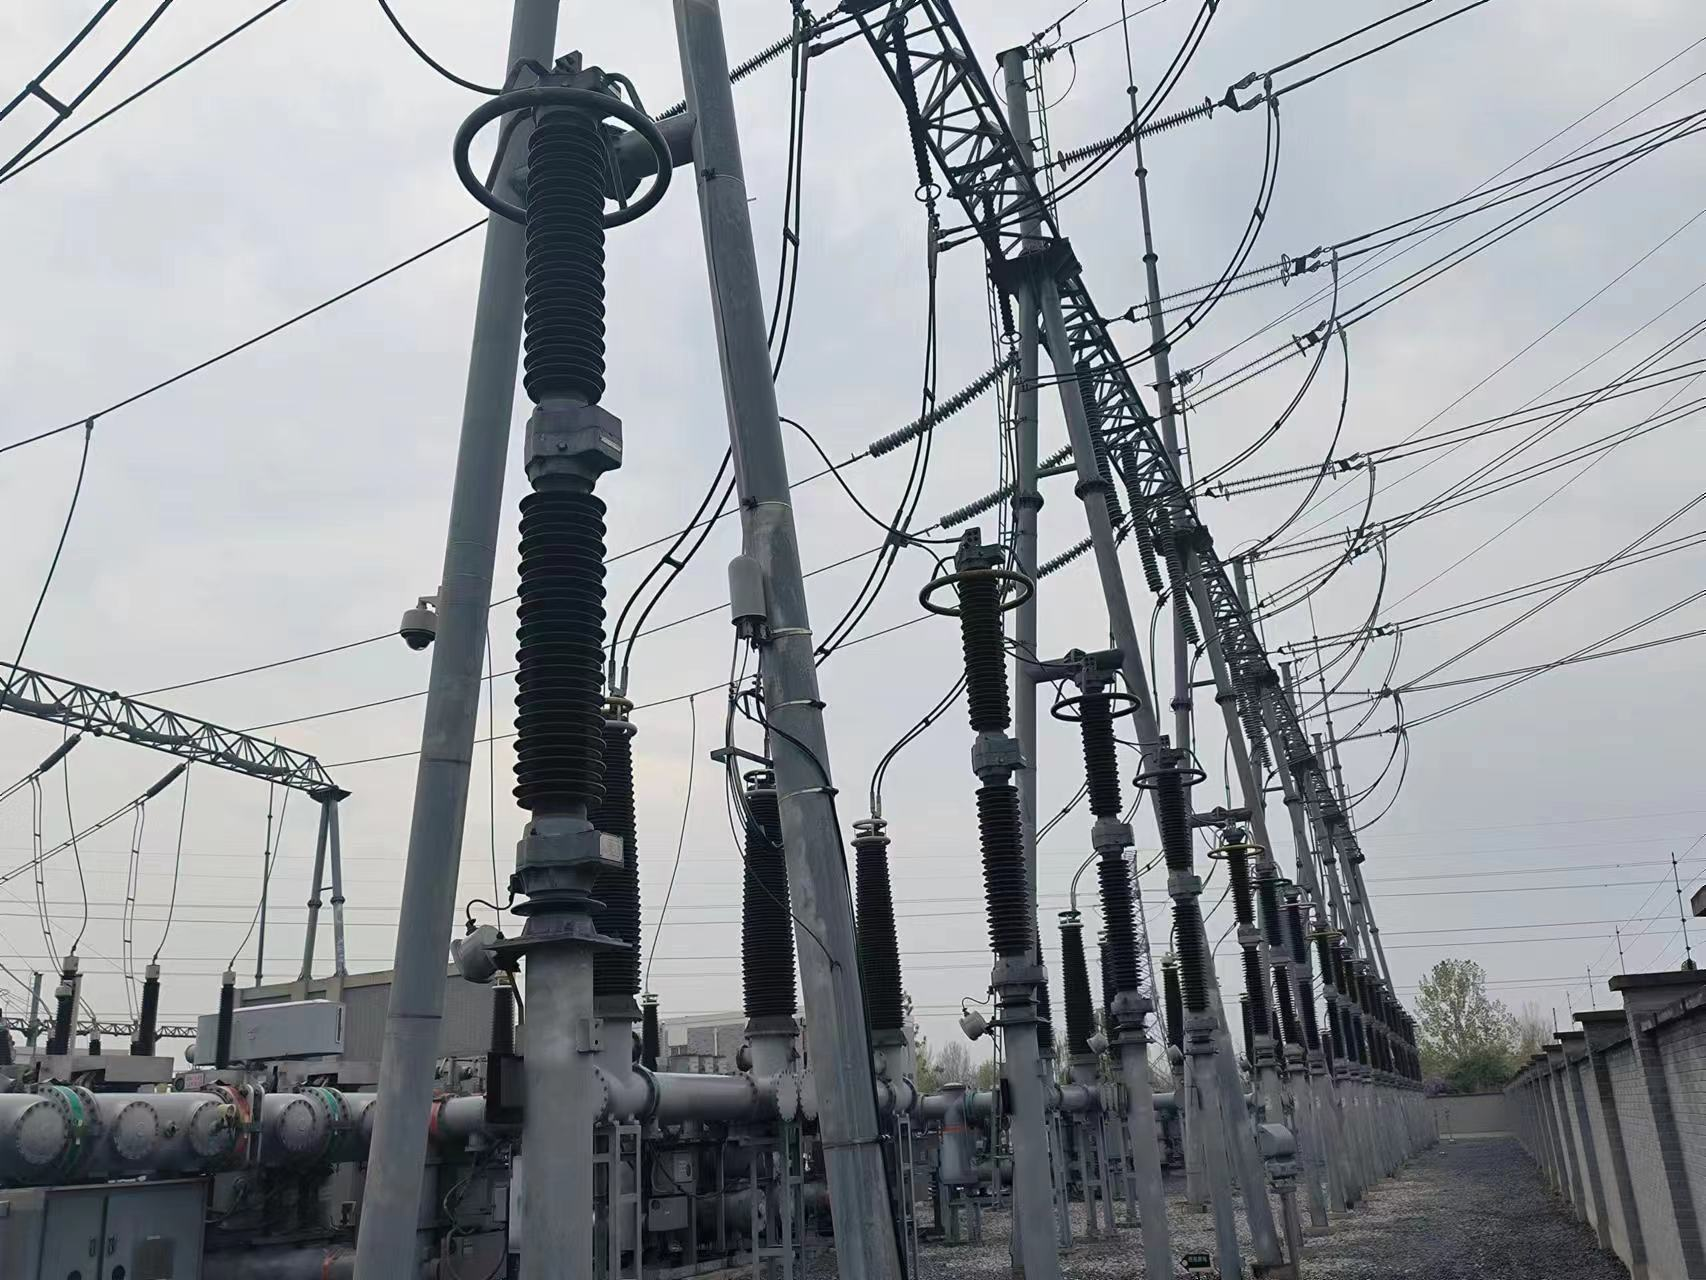Arrester: (440, 67, 692, 811), (911, 545, 1045, 955), (1049, 667, 1151, 998)
Voltage transformer: (735, 769, 800, 1021), (852, 817, 916, 1029)
